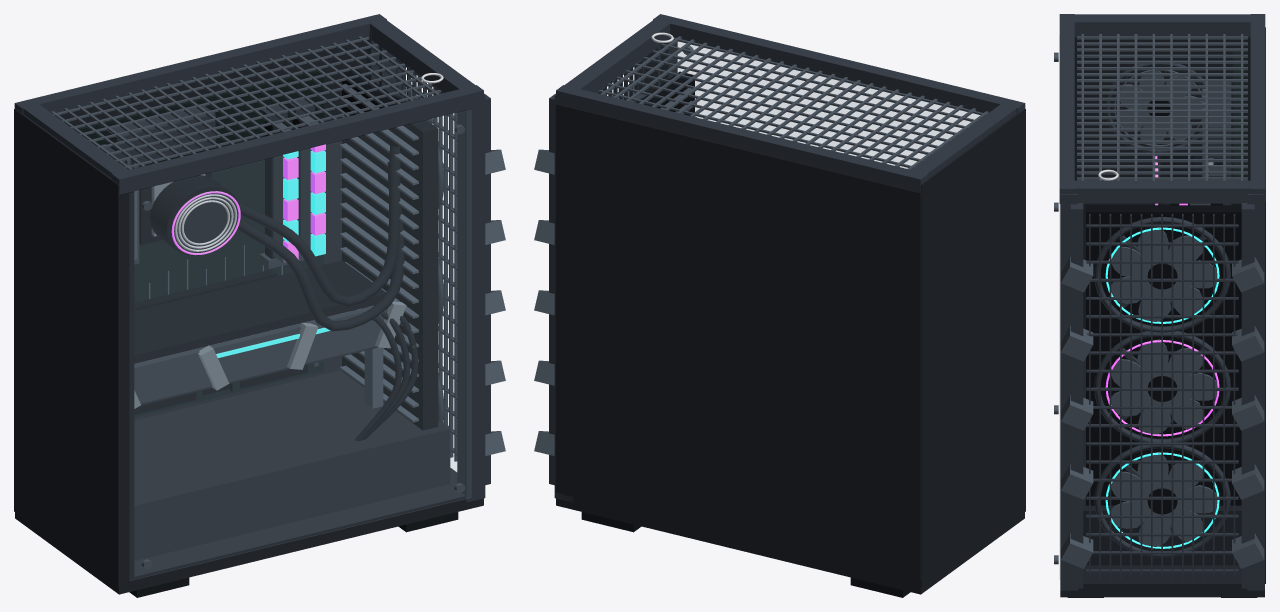
The model's file is workstation.glb.
3 renders of one model, left to right at view 1: azimuth 30°, elevation 25°; view 2: azimuth 150°, elevation 25°; view 3: azimuth 270°, elevation 25°, orthographic.
Visible parts, largest first — view 1: case (×23), power, cooler (×5), gpu (×8), motherboard (×3), ram (×3), cpu; view 2: case (×19); view 3: case (×91), fans (×36), cooler (×2), power, motherboard (×2).
Boxes of the visible parts, x1,y1,x2,y2 form: case (×23): (14, 14, 490, 594); power: (134, 370, 450, 560); cooler (×5): (150, 69, 438, 430); gpu (×8): (134, 260, 418, 441); motherboard (×3): (77, 69, 323, 416); ram (×3): (265, 116, 318, 263); cpu: (139, 172, 211, 244); case (×19): (549, 14, 1025, 594); case (×91): (1059, 14, 1265, 597); fans (×36): (1094, 60, 1230, 557); cooler (×2): (1086, 156, 1241, 505); power: (1083, 358, 1241, 565); motherboard (×2): (1208, 52, 1241, 205).
Size of the model in its own units: 4.79 by 5.06 by 2.3.
